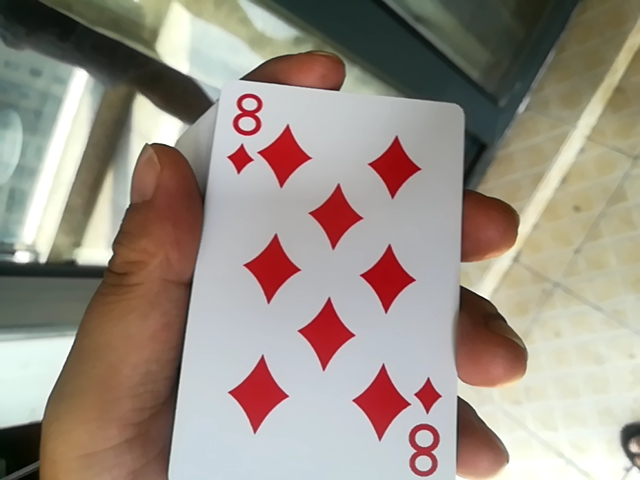fk 8: (159, 75, 462, 471)
